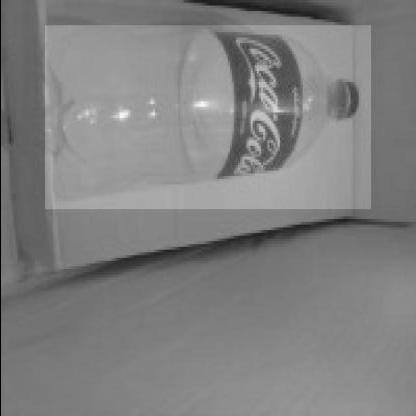plastic_bottles: (44, 26, 369, 210)
